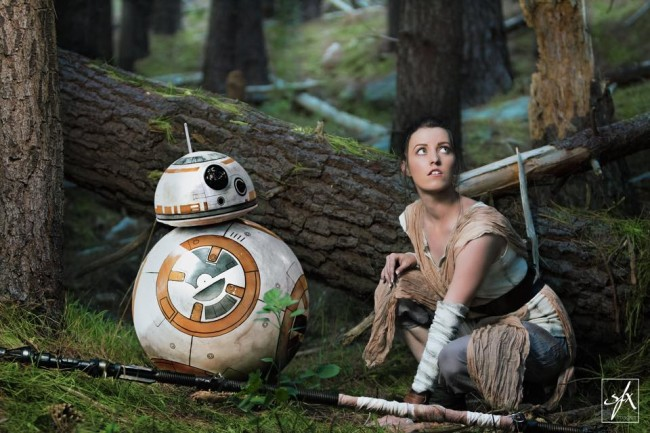bb8: (131, 151, 309, 378)
